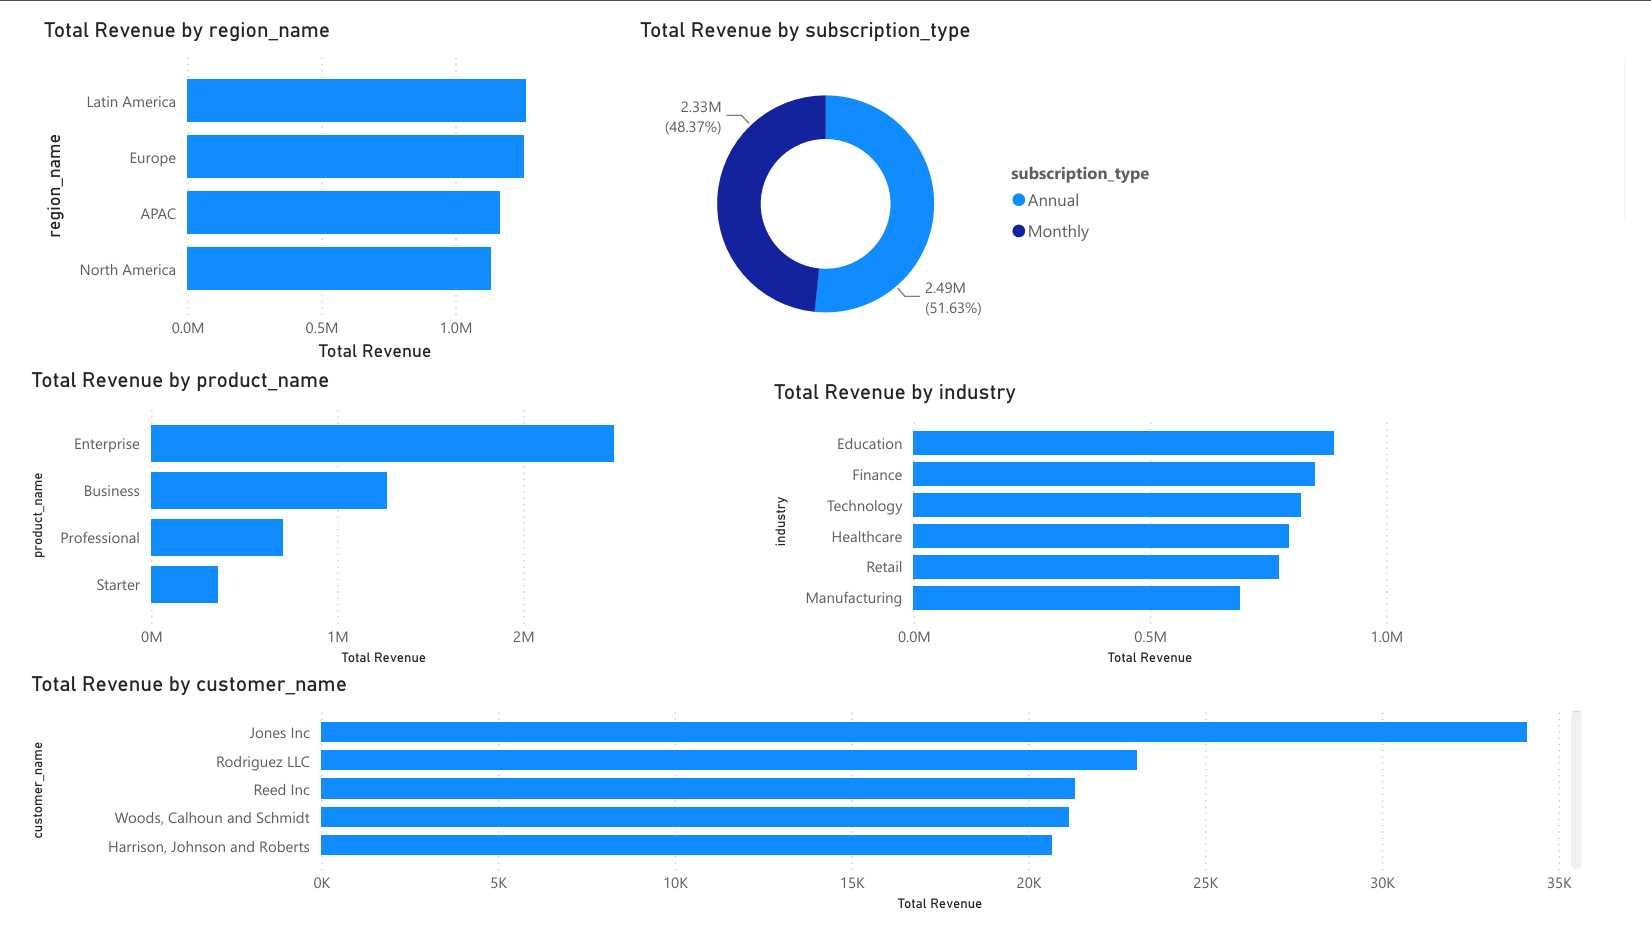

The dashboard page shown, as its layout file describes it:
{"tool":"powerbi","page":{"name":"Revenue Insights","canvas":[1280,720],"ordinal":1},"visuals":[{"type":"clusteredBarChart","fields":{"Category":["cloudcore_fpa regions.region_name"],"Y":["cloudcore_fpa budget.Total Revenue"]},"box":[10.3,0,433.2,280.4],"z":0},{"type":"clusteredBarChart","fields":{"Category":["cloudcore_fpa products.product_name"],"Y":["cloudcore_fpa budget.Total Revenue"]},"box":[0,280.4,487.2,242.4],"z":1000},{"type":"clusteredBarChart","fields":{"Category":["cloudcore_fpa customers.customer_name"],"Y":["cloudcore_fpa budget.Total Revenue"]},"box":[0,522.8,1250.1,197.6],"z":2000},{"type":"donutChart","fields":{"Category":["cloudcore_fpa products.subscription_type"],"Y":["cloudcore_fpa budget.Total Revenue"]},"box":[487.2,0,433.2,280.4],"z":3000},{"type":"clusteredBarChart","fields":{"Category":["cloudcore_fpa customers.industry"],"Y":["cloudcore_fpa budget.Total Revenue"]},"box":[594,289.6,513.6,233.2],"z":4000}]}

Visuals, with their boxes in screenshot pixels (x1, y1, x2, y2), scaled from the page's 1280x720 canvas onto the 1651x937 screenshot:
clusteredBarChart - cloudcore_fpa regions.region_name x cloudcore_fpa budget.Total Revenue: [x1=13, y1=0, x2=572, y2=365]
clusteredBarChart - cloudcore_fpa products.product_name x cloudcore_fpa budget.Total Revenue: [x1=0, y1=365, x2=628, y2=680]
clusteredBarChart - cloudcore_fpa customers.customer_name x cloudcore_fpa budget.Total Revenue: [x1=0, y1=680, x2=1612, y2=936]
donutChart - cloudcore_fpa products.subscription_type x cloudcore_fpa budget.Total Revenue: [x1=628, y1=0, x2=1187, y2=365]
clusteredBarChart - cloudcore_fpa customers.industry x cloudcore_fpa budget.Total Revenue: [x1=766, y1=377, x2=1429, y2=680]
